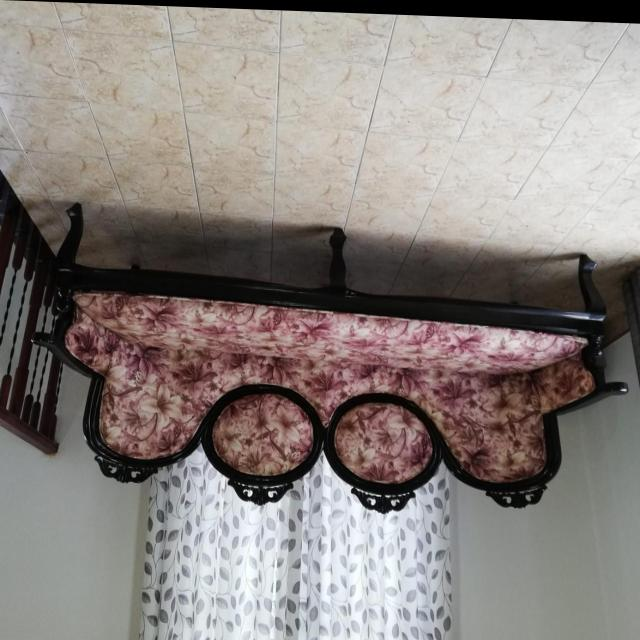Sofa: (32, 199, 629, 516)
